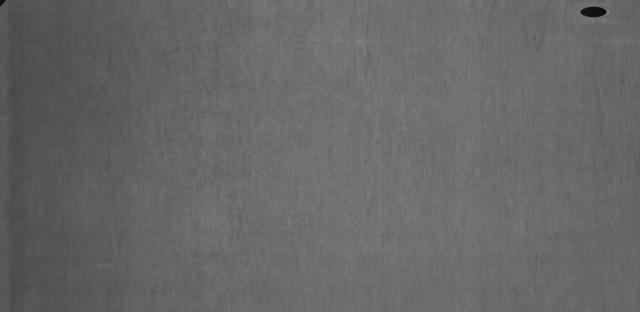punching_hole: (576, 4, 610, 20)
